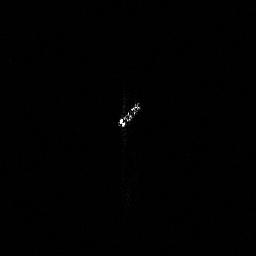ship: (114, 99, 145, 132)
